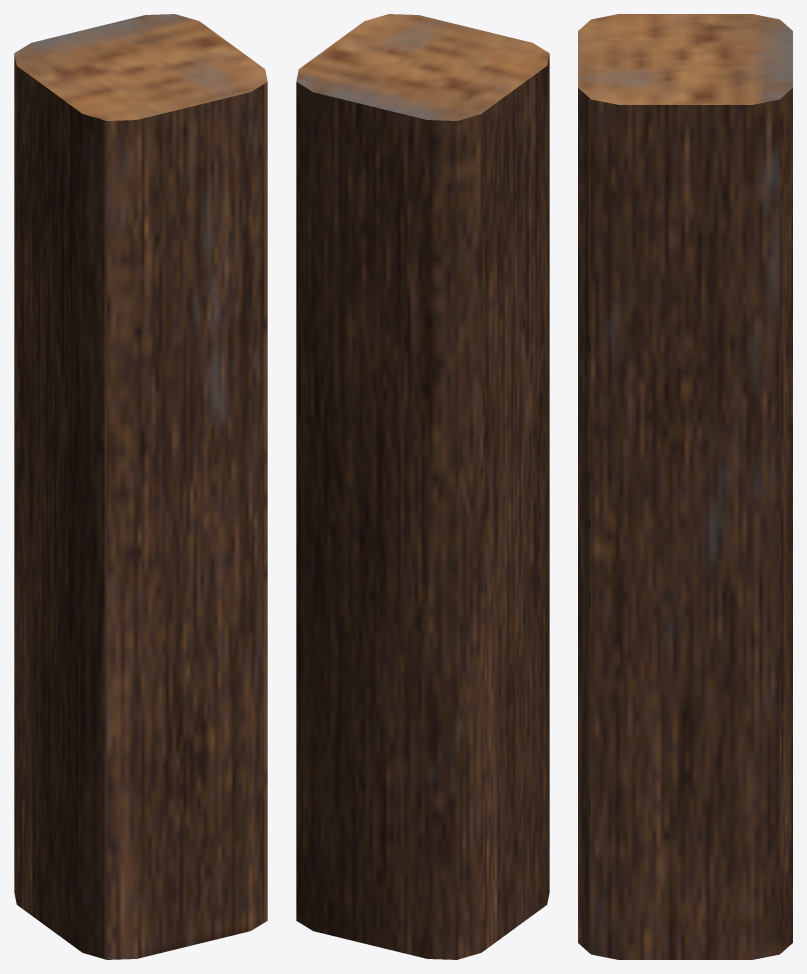
Rendered from Broken electric pole part 1.fbx.
3 views of the same model, side by side, from view 1: azimuth 30°, elevation 25°; view 2: azimuth 150°, elevation 25°; view 3: azimuth 270°, elevation 25° (orthographic).
Parts seen in each view (by area): view 1: NurbsPath.002; view 2: NurbsPath.002; view 3: NurbsPath.002.
Part boxes in pixels (x1,y1,x2,y2): NurbsPath.002: (14, 14, 267, 959); NurbsPath.002: (296, 14, 549, 959); NurbsPath.002: (578, 14, 792, 959).
Size of the model in its own units: 30.4 by 133 by 30.37.
Materials: 1 (1 with a texture image).
